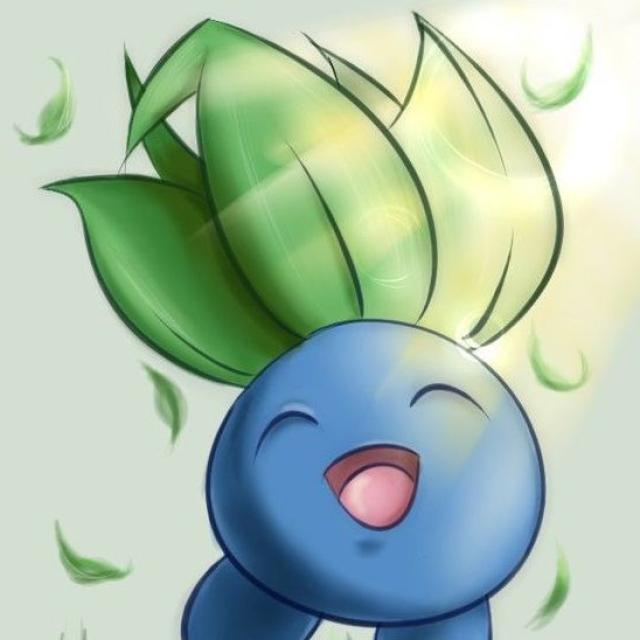Oddish: (179, 84, 573, 640)
